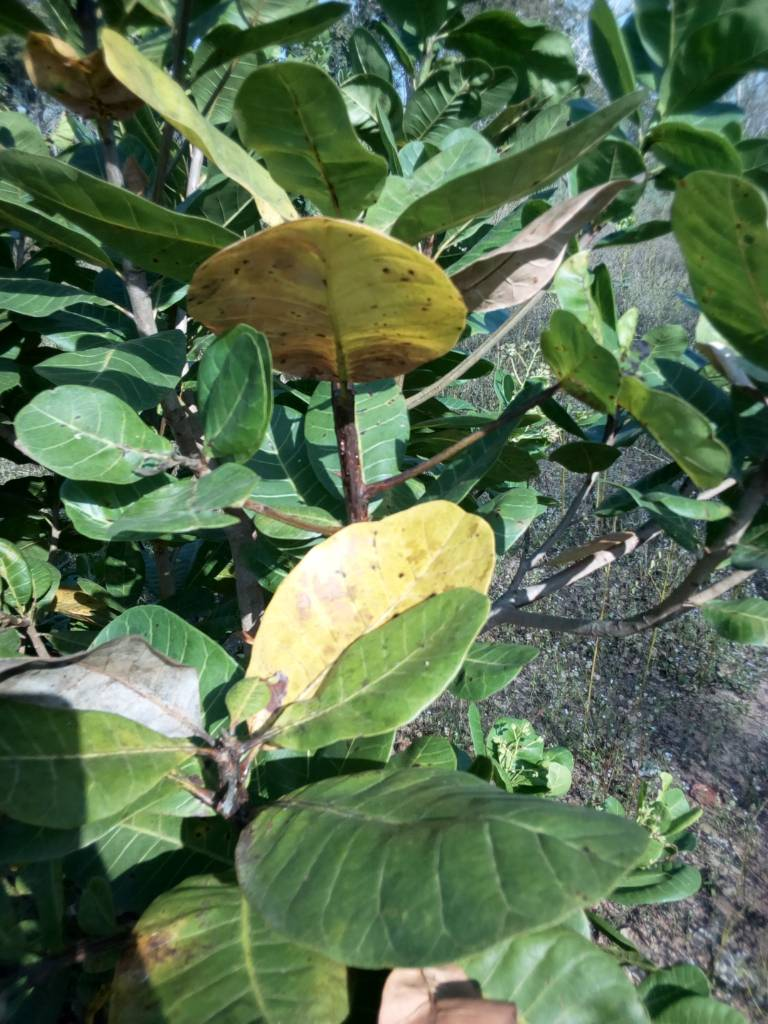Bactériose: (200, 217, 471, 382), (116, 877, 241, 1024)
